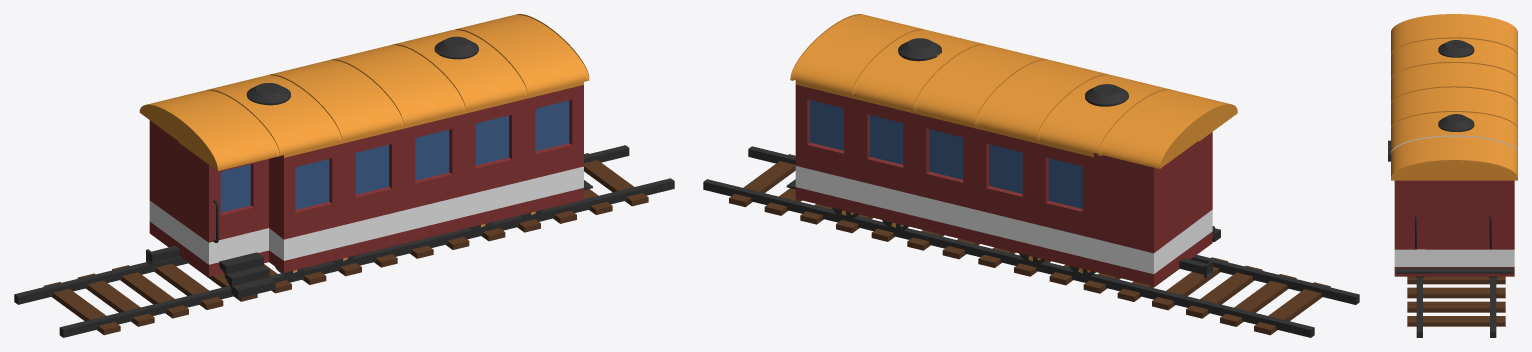
File: Caboose_1356.gltf
3 views of the same model, side by side, from view 1: azimuth 30°, elevation 25°; view 2: azimuth 150°, elevation 25°; view 3: azimuth 270°, elevation 25° (orthographic). The views are drawn at different scales.
Visible parts, largest first — view 1: node-0; view 2: node-0; view 3: node-0.
Part boxes in pixels (left/top/right/bottom): node-0: left=14, top=14, right=674, bottom=337; node-0: left=703, top=14, right=1359, bottom=337; node-0: left=1388, top=14, right=1517, bottom=337.
Size of the model in its own units: 573 by 159 by 130.
